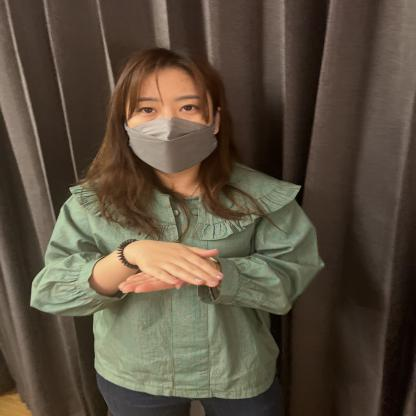Love: (50, 172, 341, 359)
